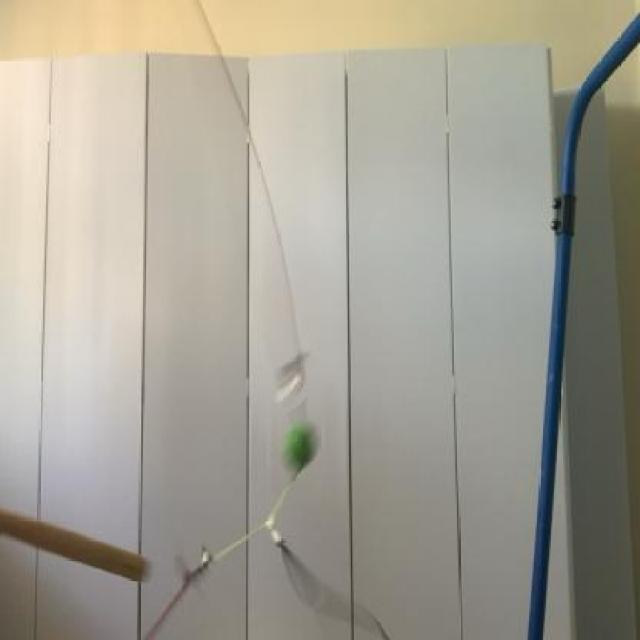baseball: (270, 412, 324, 490)
